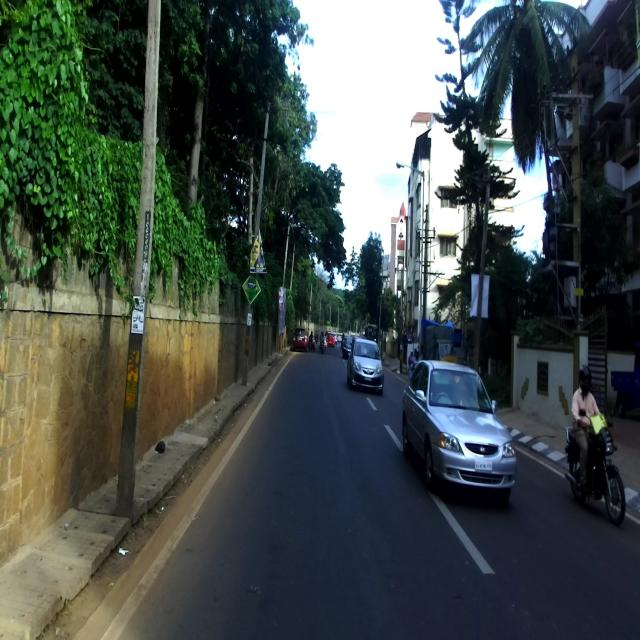car: (398, 361, 516, 504)
motorcycle: (562, 408, 626, 524)
